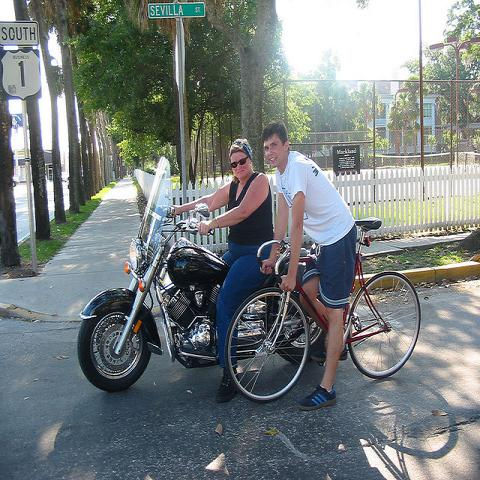motorcycle: (78, 156, 232, 392)
